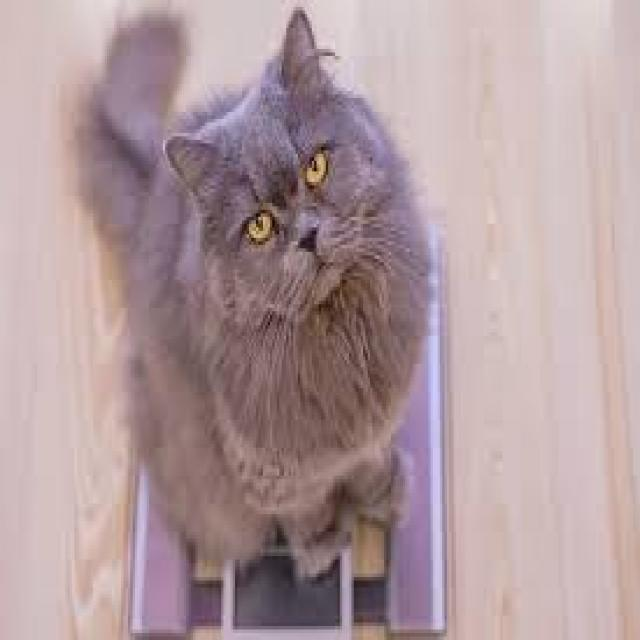Cat: (66, 0, 438, 590)
